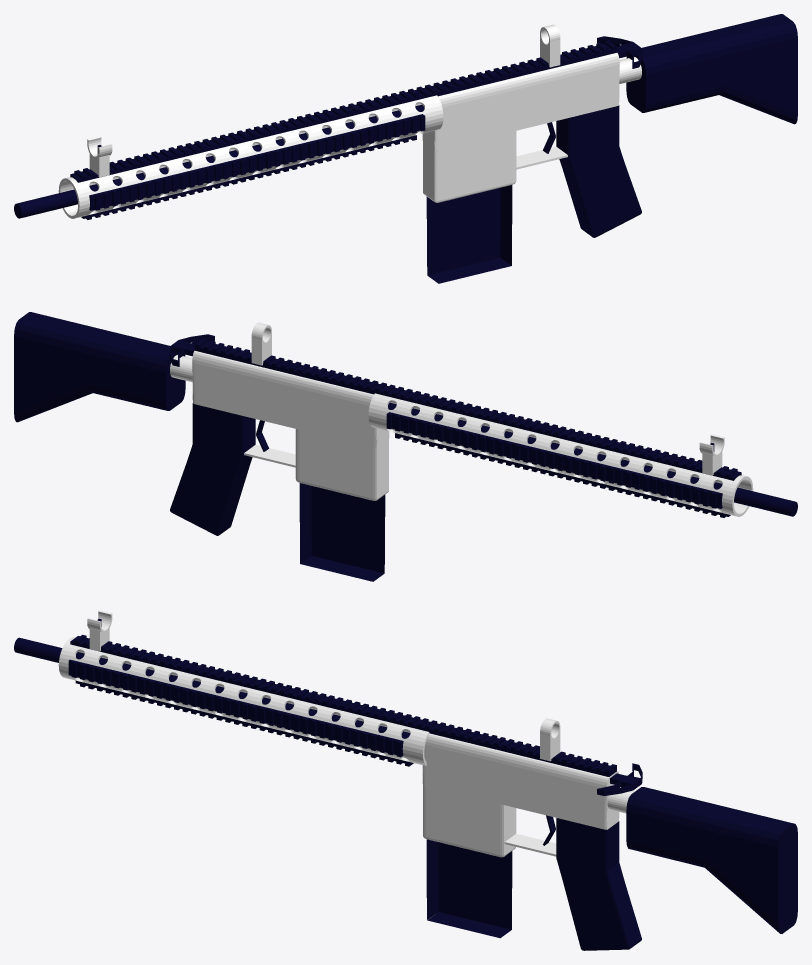
Rendered from stoner0008.obj.
The picture shows the model from 3 angles, top to bottom: view 1: azimuth 30°, elevation 25°; view 2: azimuth 150°, elevation 25°; view 3: azimuth 330°, elevation 25°; orthographic projection.
Parts seen in each view (by area): view 1: shoulderStock, upperReceiver, handGuard, rearPistolGrip, mag, picatinyRail, picatinyRailLeft, magWell, barrel, picatinyRailBottom, lowerTriggerGuard, handle; view 2: shoulderStock, upperReceiver, handGuard, rearPistolGrip, mag, picatinyRail, picatinyRailRight, magWell, barrel, picatinyRailBottom, lowerTriggerGuard, handle; view 3: shoulderStock, upperReceiver, rearPistolGrip, handGuard, mag, picatinyRail, picatinyRailLeft, magWell, picatinyRailBottom, barrel, lowerTriggerGuard, handle.
Part boxes in pixels (left/top/right/bottom): shoulderStock: left=626, top=14, right=797, bottom=124; upperReceiver: left=422, top=53, right=619, bottom=150; handGuard: left=58, top=95, right=443, bottom=218; rearPistolGrip: left=556, top=105, right=641, bottom=237; mag: left=426, top=185, right=512, bottom=283; picatinyRail: left=70, top=40, right=616, bottom=182; picatinyRailLeft: left=89, top=114, right=425, bottom=210; magWell: left=423, top=131, right=516, bottom=202; barrel: left=14, top=104, right=423, bottom=218; picatinyRailBottom: left=81, top=135, right=416, bottom=219; lowerTriggerGuard: left=516, top=146, right=567, bottom=169; handle: left=597, top=36, right=642, bottom=68; shoulderStock: left=14, top=312, right=185, bottom=422; upperReceiver: left=192, top=351, right=389, bottom=448; handGuard: left=368, top=393, right=753, bottom=516; rearPistolGrip: left=170, top=403, right=255, bottom=535; mag: left=299, top=483, right=385, bottom=581; picatinyRail: left=195, top=338, right=741, bottom=480; picatinyRailRight: left=386, top=412, right=722, bottom=508; magWell: left=295, top=429, right=388, bottom=500; barrel: left=388, top=402, right=797, bottom=516; picatinyRailBottom: left=395, top=433, right=730, bottom=517; lowerTriggerGuard: left=244, top=444, right=295, bottom=467; handle: left=169, top=334, right=214, bottom=366; shoulderStock: left=626, top=787, right=797, bottom=933; upperReceiver: left=422, top=733, right=619, bottom=829; rearPistolGrip: left=556, top=818, right=641, bottom=950; handGuard: left=58, top=637, right=429, bottom=765; mag: left=426, top=839, right=512, bottom=938; picatinyRail: left=70, top=634, right=616, bottom=776; picatinyRailLeft: left=68, top=659, right=403, bottom=757; magWell: left=423, top=785, right=516, bottom=857; picatinyRailBottom: left=75, top=680, right=413, bottom=766; barrel: left=14, top=637, right=410, bottom=738; lowerTriggerGuard: left=504, top=833, right=556, bottom=856; handle: left=597, top=763, right=642, bottom=795.
Bounding box in the file's own units: 9.01 × 2.51 × 0.7121.
